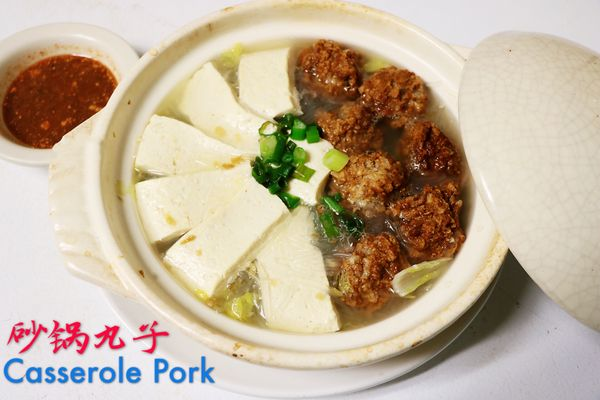sushi: (85, 2, 572, 391), (0, 21, 141, 167)
